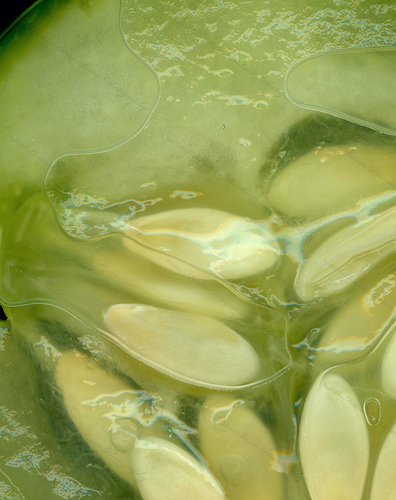cucumber: (1, 1, 394, 498)
